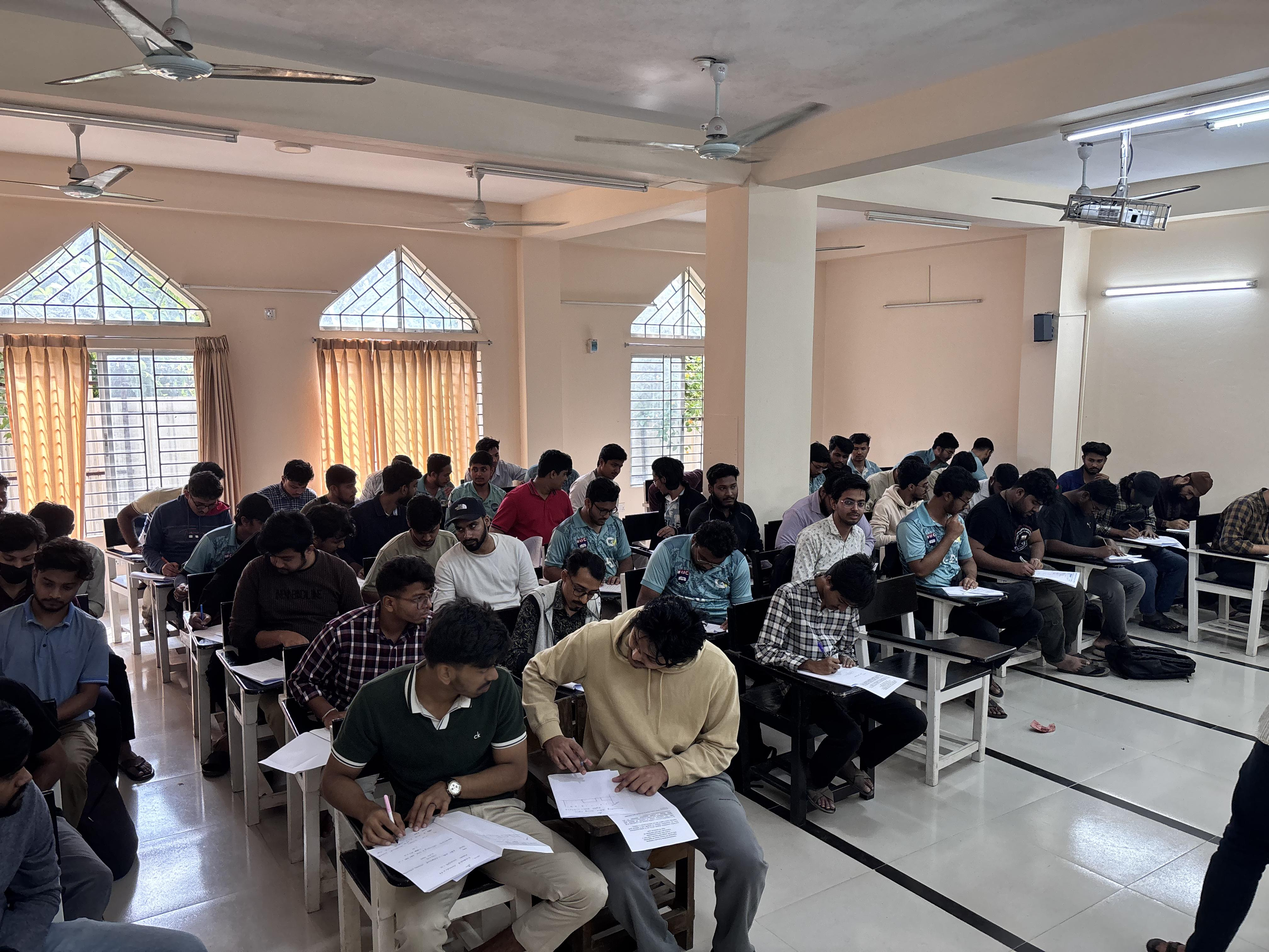copying: (410, 596, 528, 811), (926, 468, 986, 604), (515, 446, 581, 541), (892, 464, 937, 534), (645, 452, 697, 508), (962, 431, 1001, 479)
hidden_communication: (371, 453, 423, 519), (420, 447, 468, 509), (921, 422, 963, 474), (460, 453, 496, 509)
no_cheating: (764, 550, 902, 727), (10, 541, 101, 700), (984, 458, 1075, 608), (644, 516, 756, 617), (253, 512, 333, 649), (365, 550, 443, 667), (799, 467, 875, 573), (530, 545, 613, 641), (565, 483, 639, 581), (162, 472, 226, 556), (0, 503, 43, 602), (398, 491, 448, 567), (317, 454, 363, 520), (701, 455, 742, 522), (1176, 466, 1217, 533), (274, 452, 317, 514), (1124, 465, 1163, 532), (1071, 435, 1114, 486), (851, 430, 879, 477), (830, 428, 853, 479)
side_talking: (589, 440, 636, 487)
